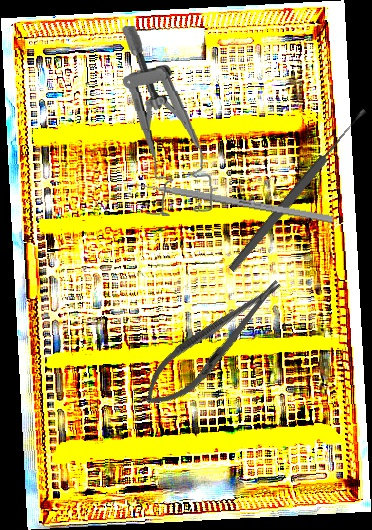Needle Holder: (132, 266, 295, 420)
Pusher: (112, 176, 335, 224)
Speculum: (120, 21, 214, 219)
Surgical Spoon: (226, 106, 370, 274)
